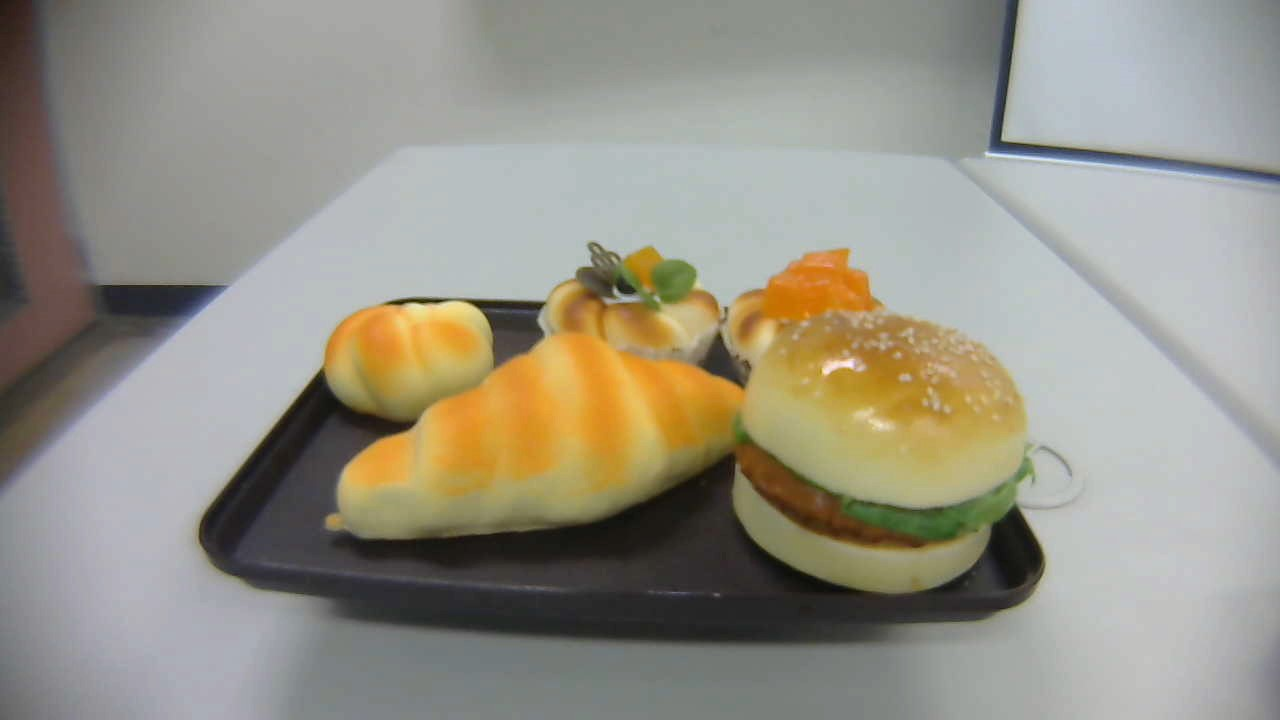croissant: (325, 328, 750, 543)
fruit tart: (538, 241, 721, 378)
hamburger: (732, 309, 1035, 596)
mango tart: (720, 247, 920, 397)
twist bread: (323, 298, 494, 421)
